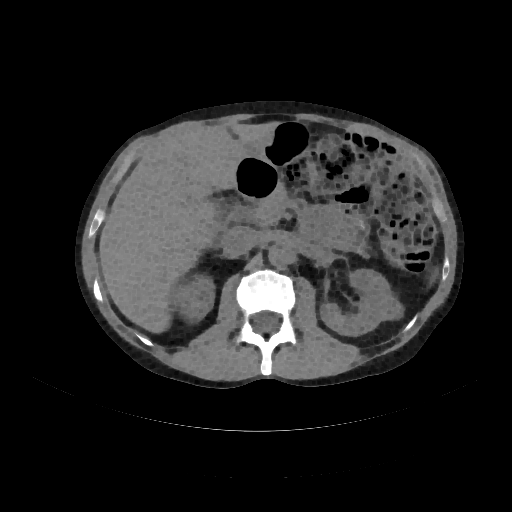Lesion: (377, 292, 407, 324)
